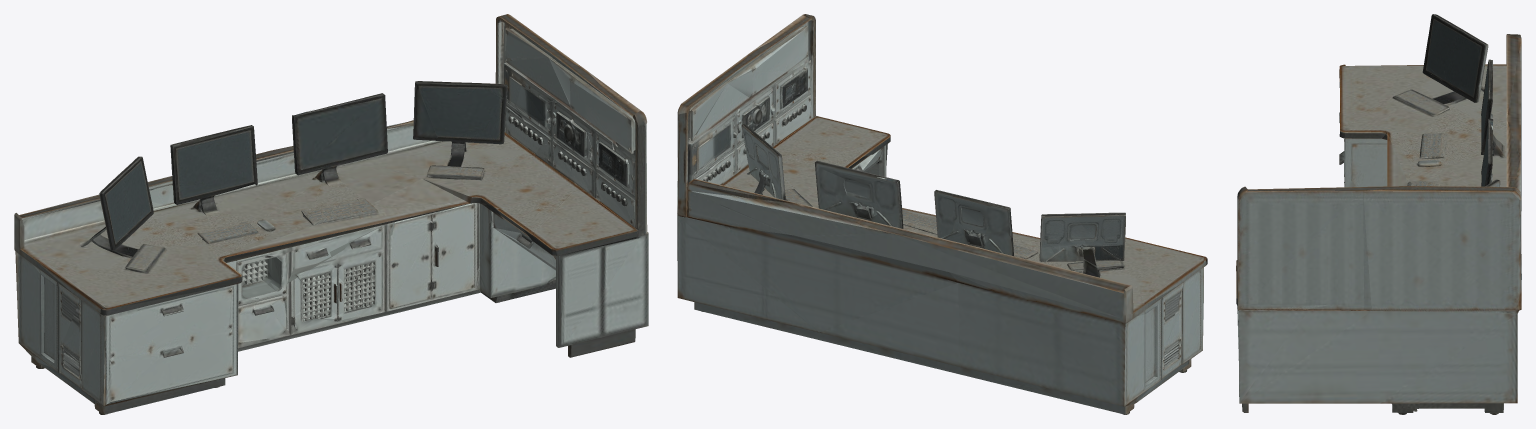
Rendered from web.glb.
The picture shows the model from 3 angles, left to right: view 1: azimuth 30°, elevation 25°; view 2: azimuth 150°, elevation 25°; view 3: azimuth 270°, elevation 25°; orthographic projection. The views are drawn at different scales.
Parts seen in each view (by area): view 1: output_unwrapped; view 2: output_unwrapped; view 3: output_unwrapped.
Part boxes in pixels (x1,y1,x2,y2): output_unwrapped: (14,14,648,414); output_unwrapped: (677,14,1207,414); output_unwrapped: (1236,14,1521,414).
Size of the model in its own units: 1.9 by 0.8487 by 0.955.
Materials: 1 (1 with a texture image).
